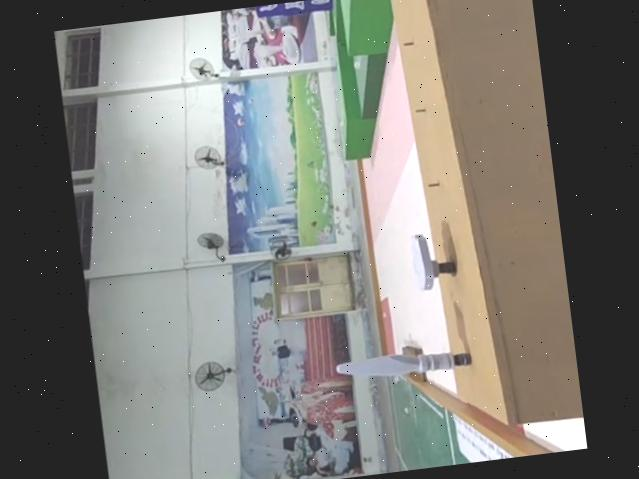Hand: (406, 231, 457, 293)
Sph: (331, 340, 472, 386)
